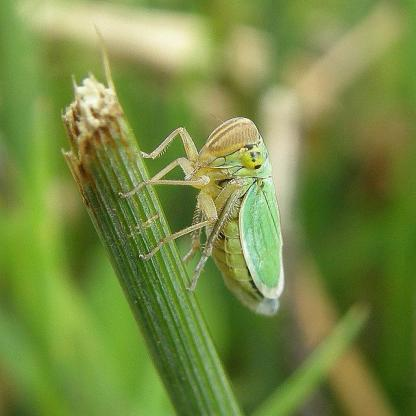Green-Leafhopper: (114, 118, 300, 324)
